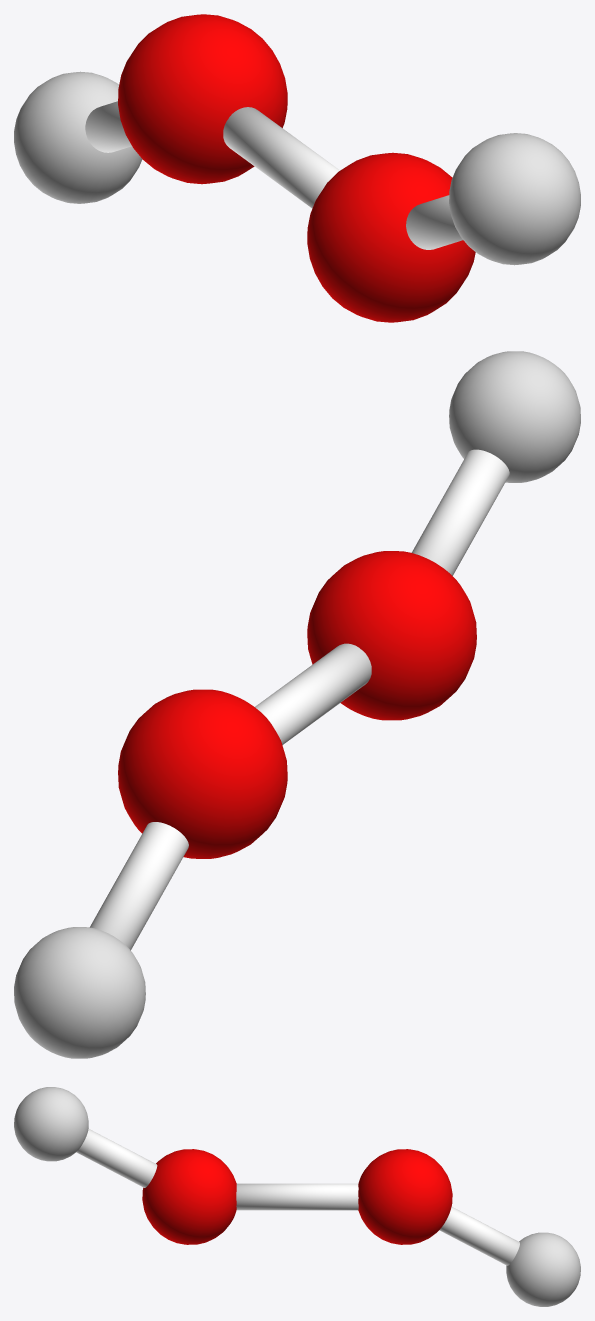
The picture shows the model from 3 angles, top to bottom: view 1: azimuth 30°, elevation 25°; view 2: azimuth 150°, elevation 25°; view 3: azimuth 270°, elevation 25°; orthographic projection. The views are drawn at different scales.
Parts seen in each view (by area): view 1: o.001; view 2: o.001; view 3: o.001.
Part boxes in pixels (x1,y1,x2,y2): o.001: (14,14,580,322); o.001: (14,351,580,1058); o.001: (14,1087,580,1306).
Size of the model in its own units: 180 by 440 by 1059.
